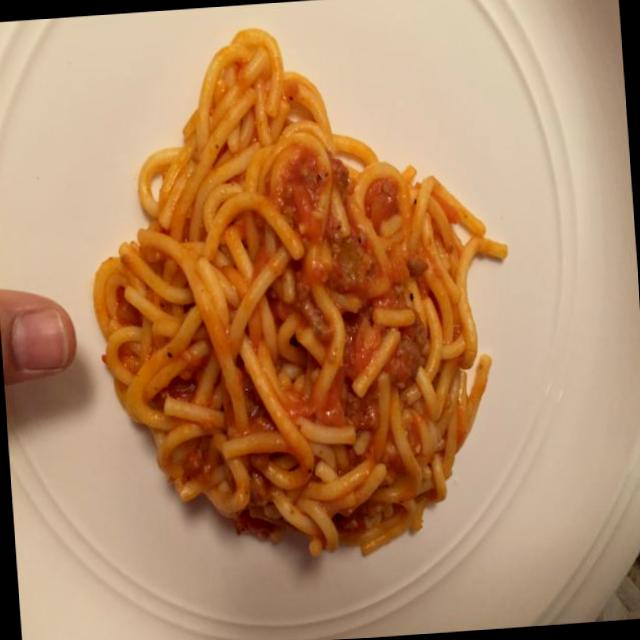Pasta: (58, 9, 536, 592)
